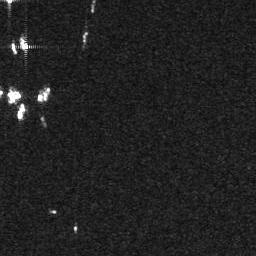ship: (17, 102, 26, 121), (19, 36, 28, 51), (10, 42, 17, 56)
